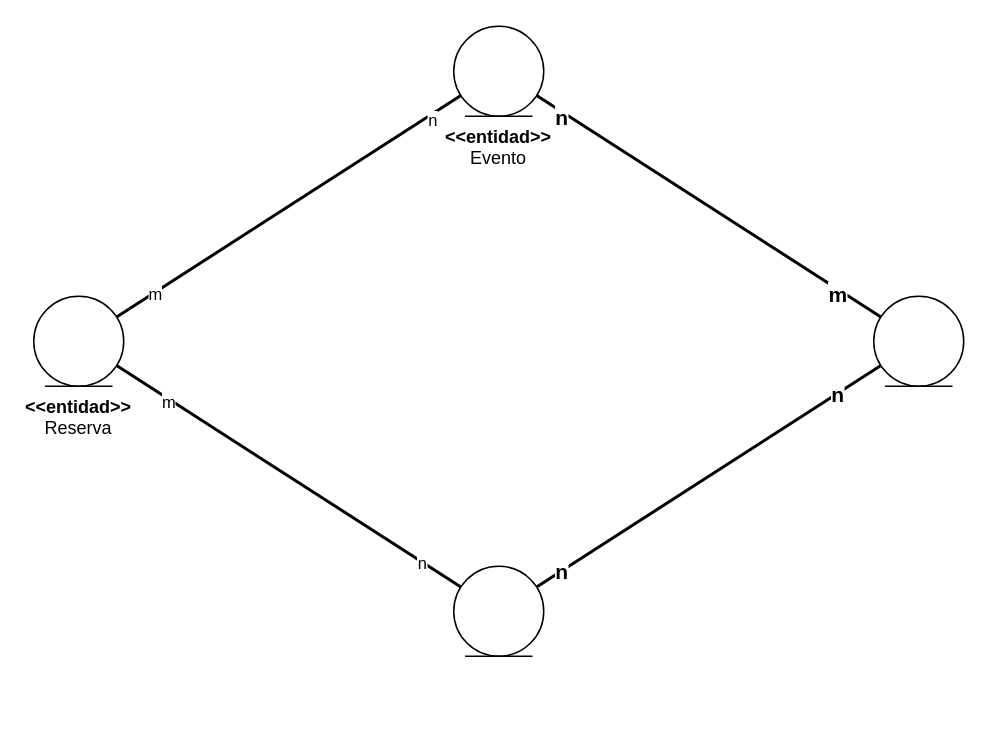
This 998x737 diagram has some shape labels left out. Each missing label, with the centre of its shape:
"<<entidad>> Asistencia" goes at pixel 918 340.
"<<entidad>> Estudiante" goes at pixel 498 610.
